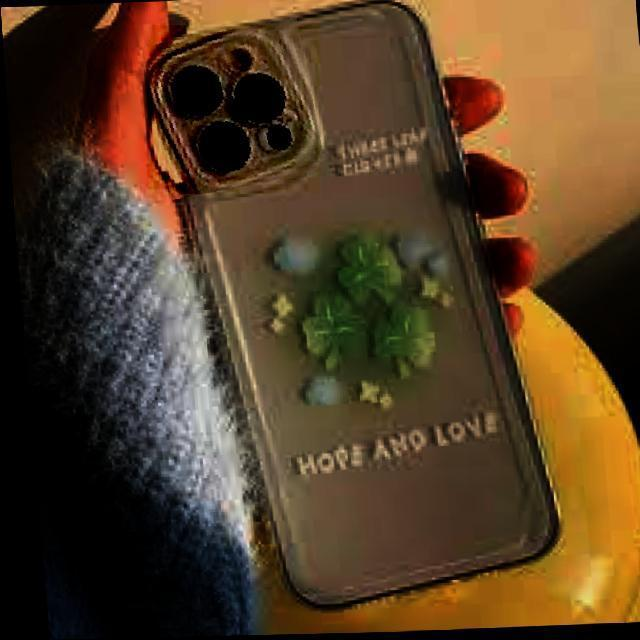phone: (148, 2, 565, 608)
